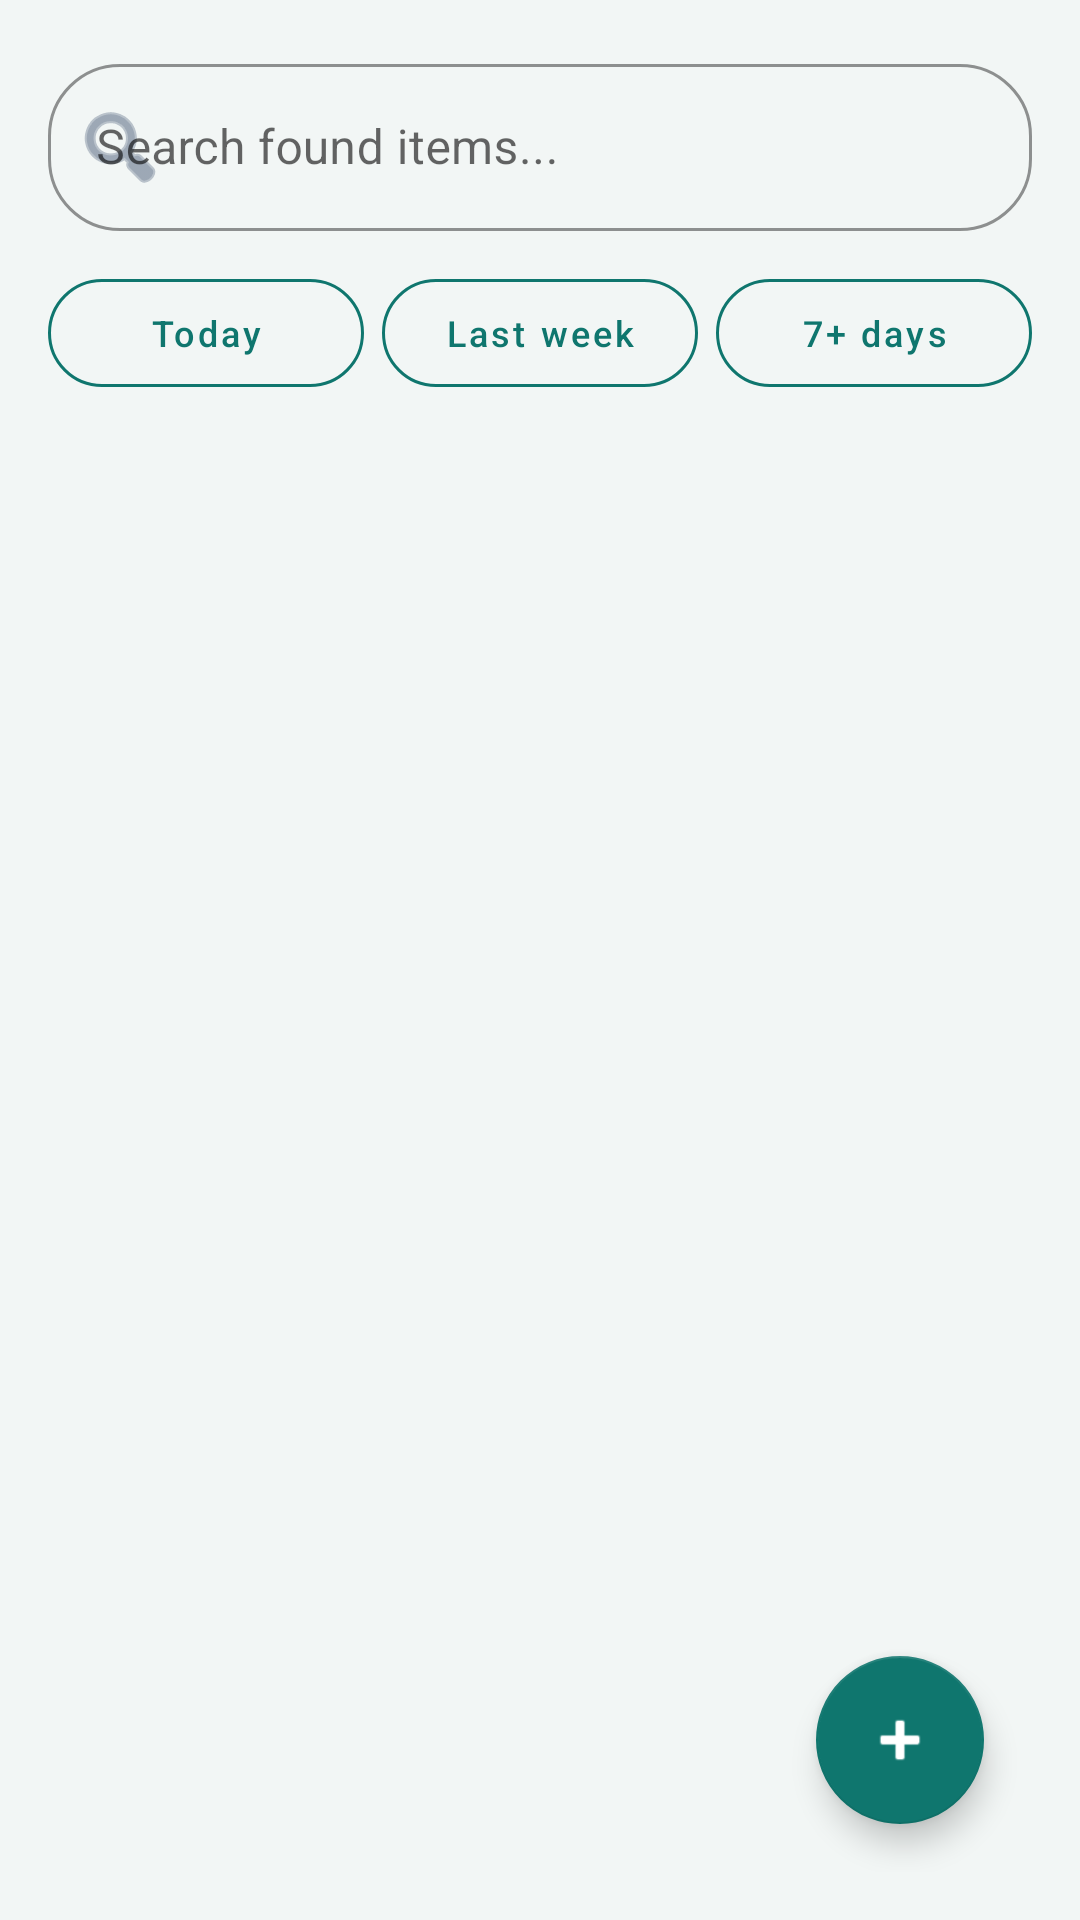

Where icons sit on this 1080px x 1920px app screen, as (x1, y1, x2, y2):
Add item: (816, 1656, 984, 1824)
